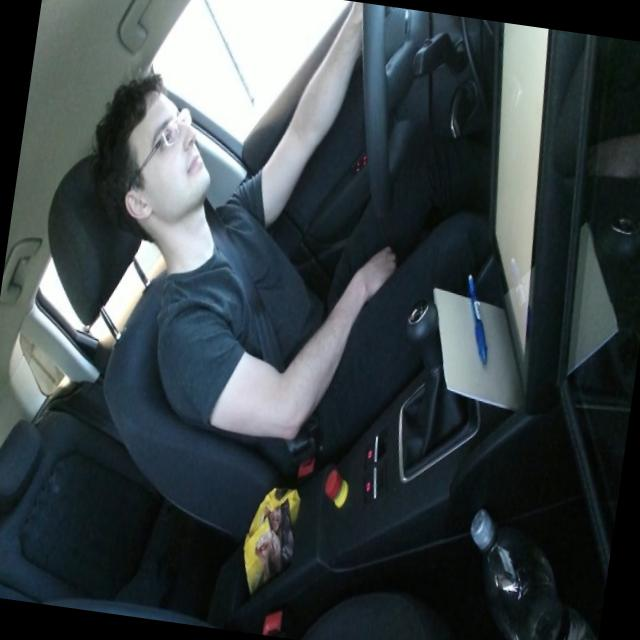pen: (455, 270, 500, 366)
